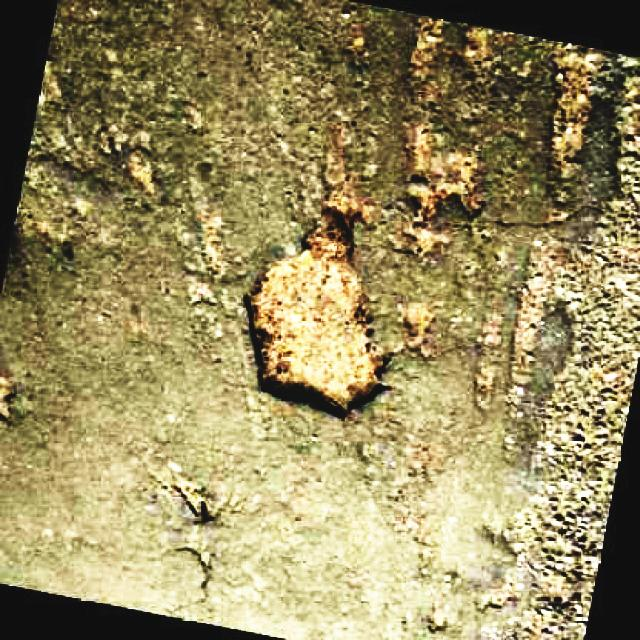pothole: (500, 303, 632, 640), (237, 196, 395, 422), (549, 42, 602, 180)
